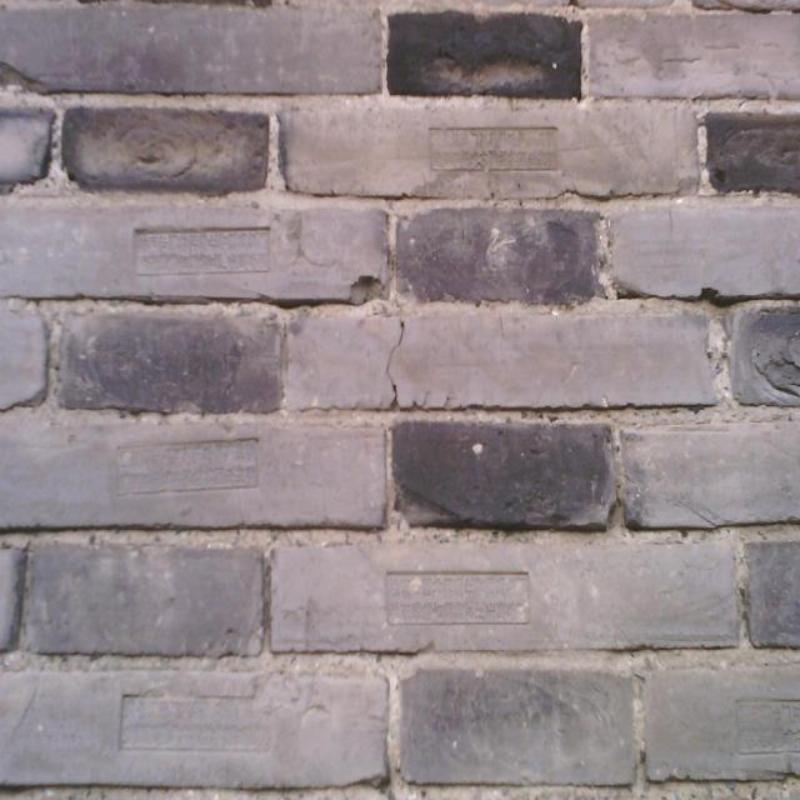pothole: (386, 319, 405, 411)
